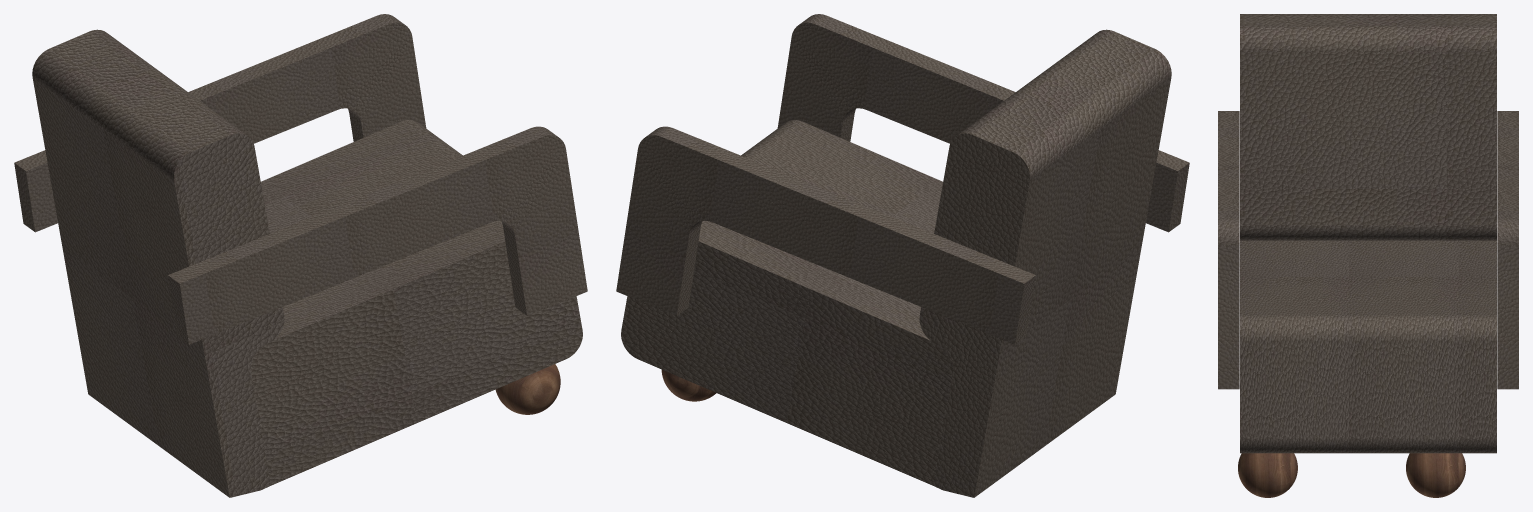
File: SPHERES LOUNGE CHAIR (1).glb
3 renders of one model, left to right at view 1: azimuth 30°, elevation 25°; view 2: azimuth 150°, elevation 25°; view 3: azimuth 270°, elevation 25°, orthographic. The views are drawn at different scales.
Size of the model in its own units: 1.02 by 0.8487 by 0.7016.
2 materials, 2 textured.
